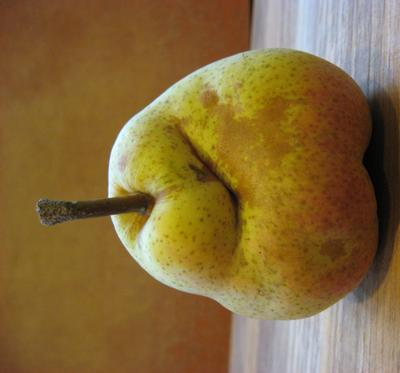pear: (0, 0, 400, 373)
